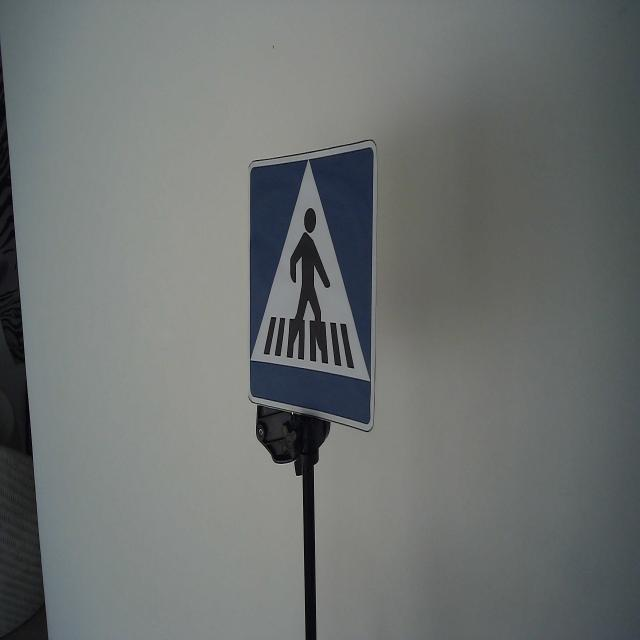crosswalk_sign: (245, 138, 380, 435)
